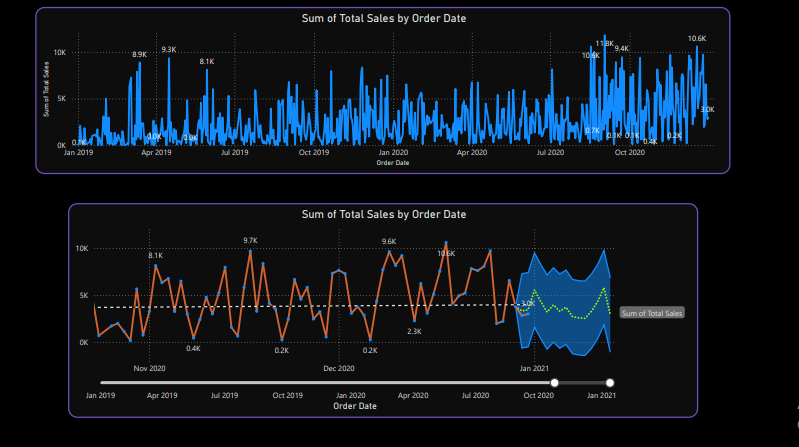

The dashboard page shown, as its layout file describes it:
{"tool":"powerbi","page":{"name":"Page 2","canvas":[1280,720],"ordinal":1},"visuals":[{"type":"lineChart","fields":{"Y":["Sum(SalesForecast.Total Sales)"],"Category":["SalesForecast.Order Date"]},"box":[111.5,327.9,1006.6,342.6],"z":0},{"type":"lineChart","fields":{"Y":["Sum(SalesForecast.Total Sales)"],"Category":["SalesForecast.Order Date"]},"box":[59,14.8,1111.5,267.2],"z":1000}]}

Visuals, with their boxes in screenshot pixels (x1, y1, x2, y2), scaled from the page's 1280x720 canvas onto the 799x447 screenshot:
lineChart - Sum(SalesForecast.Total Sales) x SalesForecast.Order Date: (70,204,698,416)
lineChart - Sum(SalesForecast.Total Sales) x SalesForecast.Order Date: (37,9,731,175)
